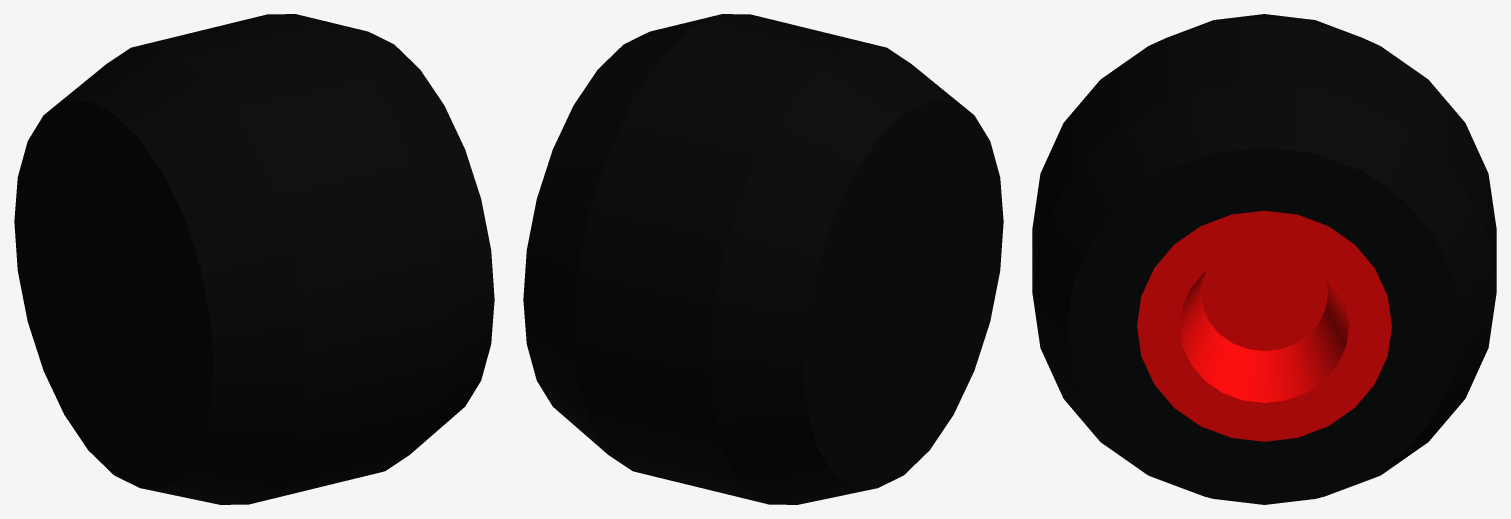
Rendered from wheel-tractor-front.glb.
The picture shows the model from 3 angles, left to right: view 1: azimuth 30°, elevation 25°; view 2: azimuth 150°, elevation 25°; view 3: azimuth 270°, elevation 25°; orthographic projection.
Parts seen in each view (by area): view 1: wheel-tractor-front; view 2: wheel-tractor-front; view 3: wheel-tractor-front.
Part boxes in pixels (x1,y1,x2,y2): wheel-tractor-front: [14, 14, 494, 504]; wheel-tractor-front: [523, 14, 1003, 504]; wheel-tractor-front: [1032, 14, 1496, 504].
Bounding box in the file's own units: 0.3694 × 0.5386 × 0.5386.
Materials: 1 (1 with a texture image).
